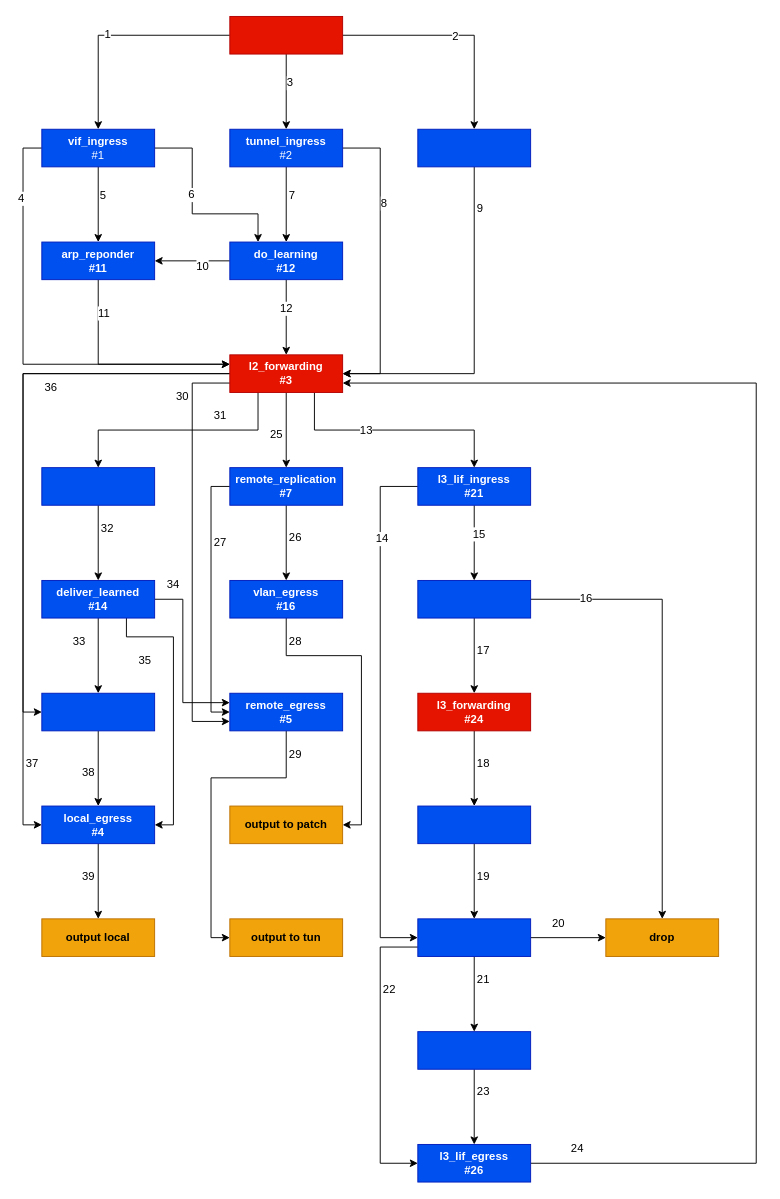
The diagram is 780 pixels wide and 1199 high, and some of its shapes have lost their labels. Each missing label, with the centre of its shape:
classifier #0: point 286,35
consult_learning #13: point 98,486
l3_arp_processing #22: point 474,937
l3_dec_ttl #25: point 474,824
l3_icmp_responder #27: point 474,1050
l3_next_hop #23: point 474,599
local_replication #6: point 98,711
vlan_ingress #15: point 474,147
